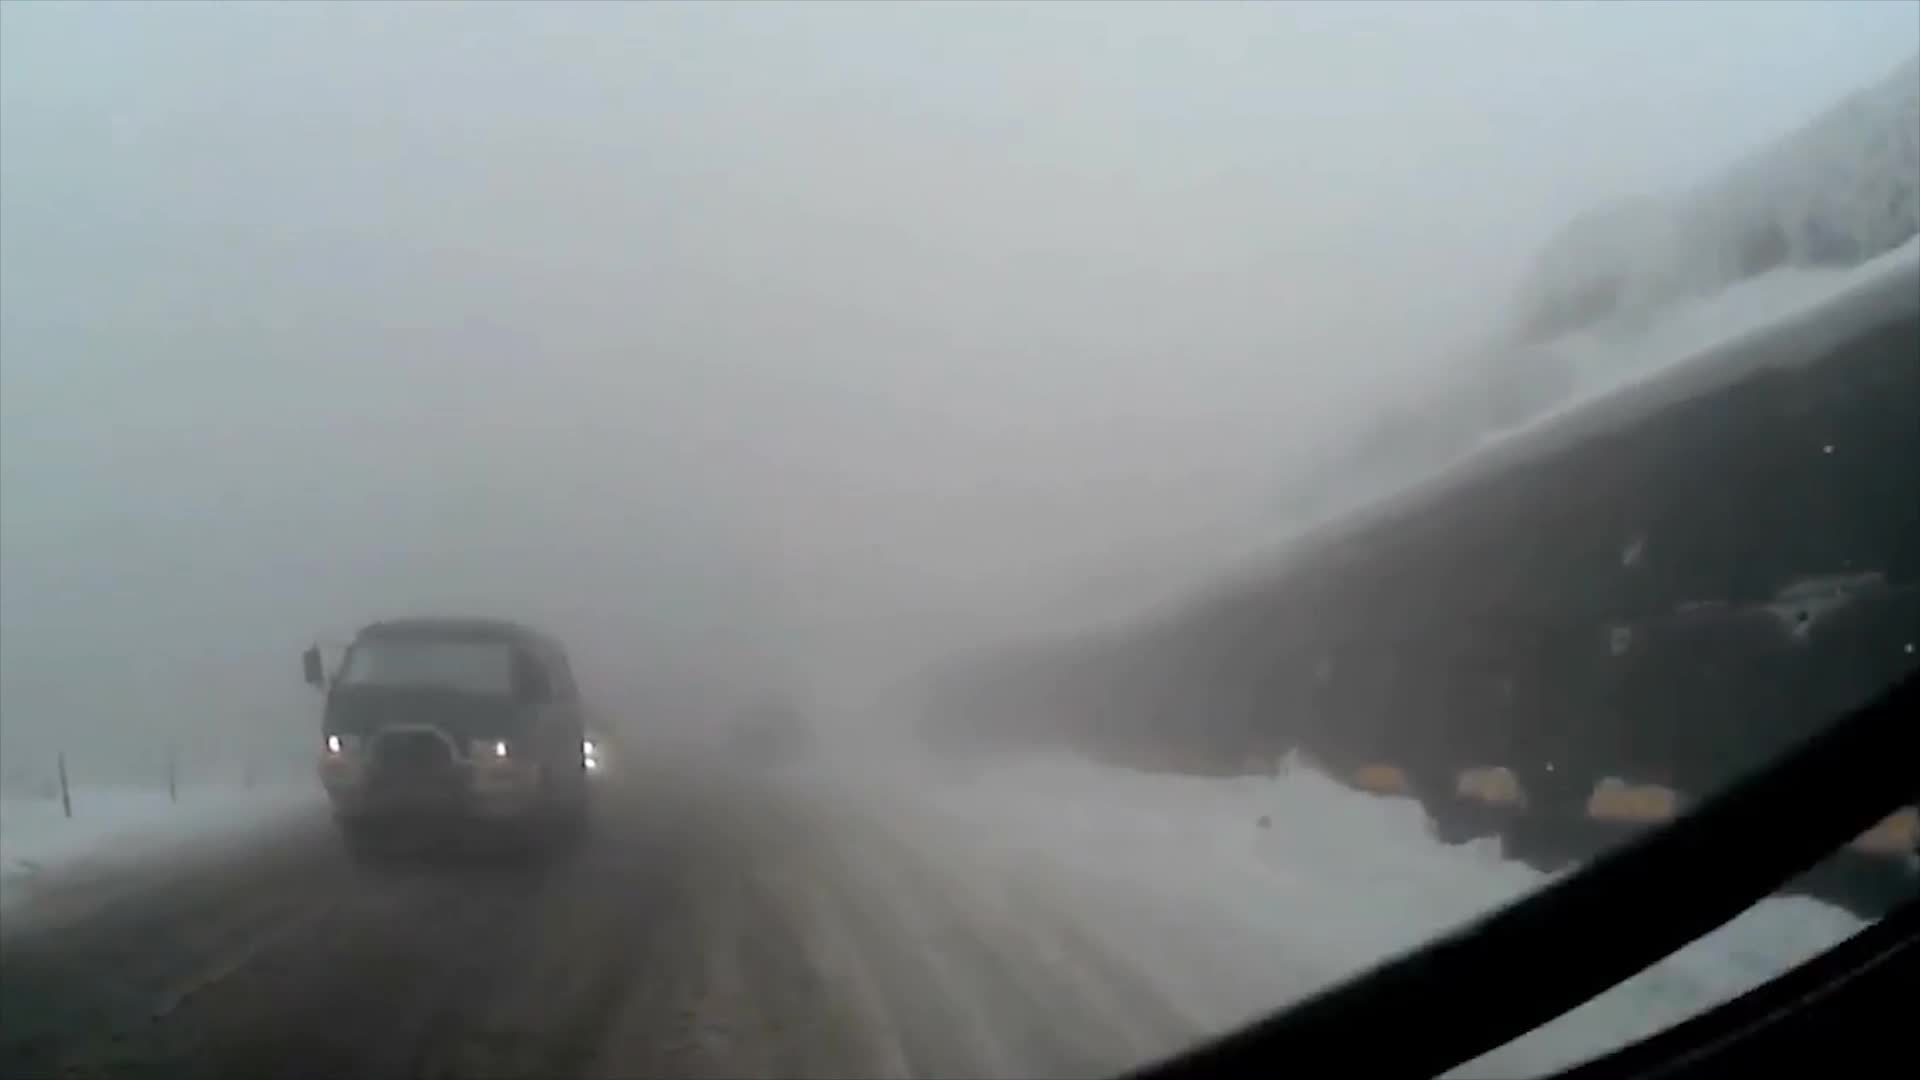vehicle: (297, 617, 591, 881)
